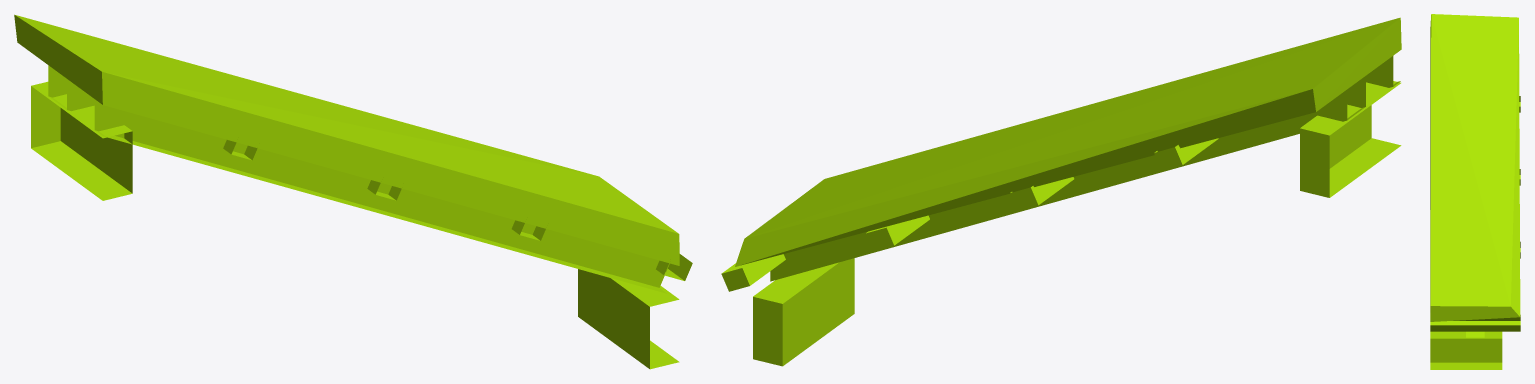
File: WallKit_Verge_Left_COL.fbx
The picture shows the model from 3 angles, left to right: view 1: azimuth 30°, elevation 25°; view 2: azimuth 150°, elevation 25°; view 3: azimuth 270°, elevation 25°; orthographic projection. The views are drawn at different scales.
Visible parts, largest first — view 1: WallKit_Verge_Left_COL; view 2: WallKit_Verge_Left_COL; view 3: WallKit_Verge_Left_COL.
Boxes of the visible parts, x1,y1,x2,y2 form: WallKit_Verge_Left_COL: (14, 14, 692, 369); WallKit_Verge_Left_COL: (721, 17, 1401, 366); WallKit_Verge_Left_COL: (1430, 14, 1520, 369).
Bounding box in the file's own units: 409 × 285 × 109.
